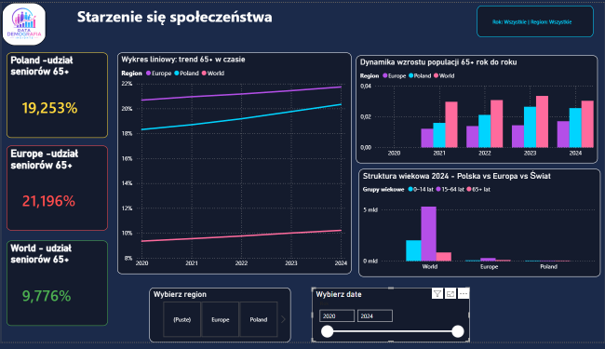

The dashboard page shown, as its layout file describes it:
{"tool":"powerbi","page":{"name":"Starzenie się społeczeństwa","canvas":[1280,720],"ordinal":0},"visuals":[{"type":"clusteredColumnChart","title":"Struktura wiekowa 2024 - Polska vs Europa vs Świat","fields":{"Category":["All_Regions.Region"],"Y":["_Miary.Total People"],"Series":["All_Regions.AgeGroup"]},"box":[758.3,352.4,513.1,229.4],"z":0},{"type":"lineChart","title":"Wykres liniowy: trend 65+ w czasie","fields":{"Category":["Kalendarz.Rok"],"Y":["_Miary.Share 65+ %"],"Series":["All_Regions.Region"]},"box":[246,105.8,496.5,470.1],"z":1000},{"type":"clusteredColumnChart","title":"Dynamika wzrostu populacji 65+ rok do roku","fields":{"Category":["Kalendarz.Rok"],"Y":["_Miary.YoY Change %"],"Series":["All_Regions.Region"]},"box":[753.1,111.7,513.1,229.4],"z":2000},{"type":"slicer","title":"Wybierz date","fields":{"Values":["Kalendarz.Rok"]},"box":[659.2,604.3,334.5,115.7],"z":3000},{"type":"slicer","title":"Wybierz region","fields":{"Values":["All_Regions.Region"]},"box":[314,604.3,299.5,115.7],"z":4000},{"type":"textbox","box":[156,0,484,75.1],"z":5000},{"type":"cardVisual","fields":{"Data":["Miary.Opis filtrów 3"]},"box":[1009.6,6,247.3,66.8],"z":6000},{"type":"cardVisual","title":"Europe -udział seniorów 65+","fields":{"Data":["Miary.Share 65+ %"]},"box":[10.9,303.2,215.3,179.8],"z":7000},{"type":"cardVisual","title":"World - udział seniorów 65+","fields":{"Data":["Miary.Share 65+ %"]},"box":[10.9,504.7,215.3,180.7],"z":8000},{"type":"cardVisual","title":"Poland -udział seniorów 65+","fields":{"Data":["Miary.Share 65+ %"]},"box":[10.9,105.7,215.3,180.7],"z":9000},{"type":"image","box":[0,0,96.3,91.4],"z":10000}]}

Visuals, with their boxes in screenshot pixels (x1, y1, x2, y2), scaled from the page's 1280x720 canvas onto the 605x349 screenshot:
"Struktura wiekowa 2024 - Polska vs Europa vs Świat" clusteredColumnChart: bbox=[358, 171, 601, 282]
"Wykres liniowy: trend 65+ w czasie" lineChart: bbox=[116, 51, 351, 279]
"Dynamika wzrostu populacji 65+ rok do roku" clusteredColumnChart: bbox=[356, 54, 598, 165]
"Wybierz date" slicer: bbox=[312, 293, 470, 348]
"Wybierz region" slicer: bbox=[148, 293, 290, 348]
textbox: bbox=[74, 0, 302, 36]
cardVisual - Miary.Opis filtrów 3: bbox=[477, 3, 594, 35]
"Europe -udział seniorów 65+" cardVisual: bbox=[5, 147, 107, 234]
"World - udział seniorów 65+" cardVisual: bbox=[5, 245, 107, 332]
"Poland -udział seniorów 65+" cardVisual: bbox=[5, 51, 107, 139]
image: bbox=[0, 0, 46, 44]
